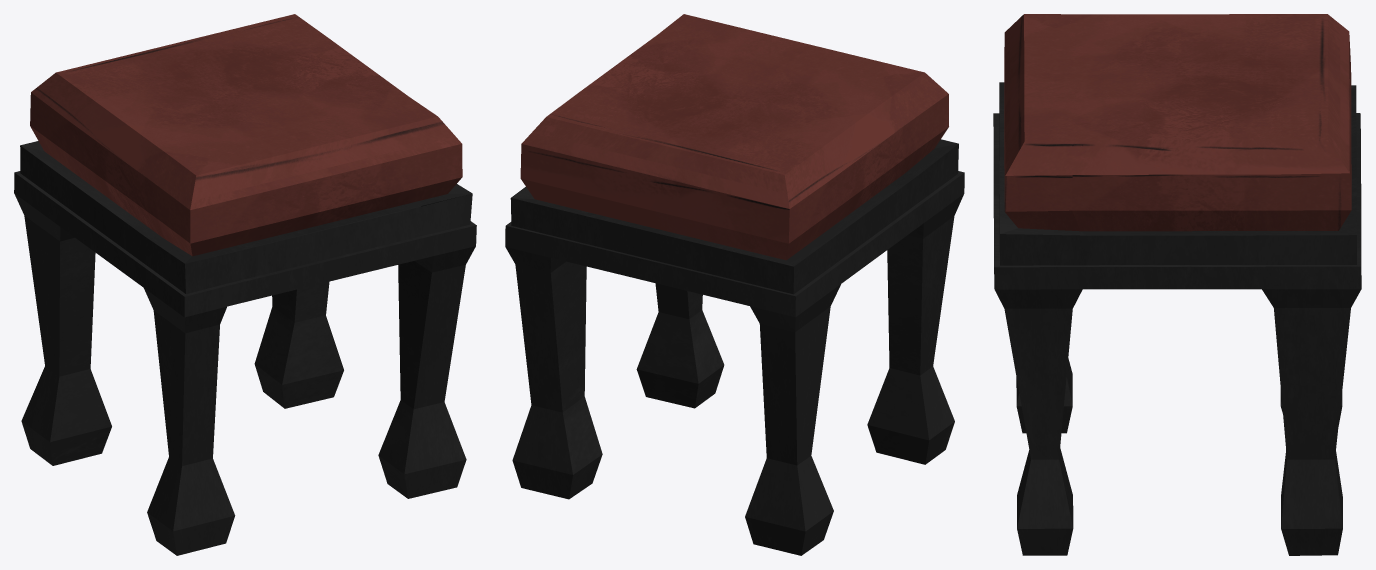
The model's file is piano1.fbx.
The picture shows the model from 3 angles, left to right: view 1: azimuth 30°, elevation 25°; view 2: azimuth 150°, elevation 25°; view 3: azimuth 270°, elevation 25°; orthographic projection. The views are drawn at different scales.
Visible parts, largest first — view 1: koltuk yan şeyi; view 2: koltuk yan şeyi; view 3: koltuk yan şeyi.
Part boxes in pixels (x1,y1,x2,y2): koltuk yan şeyi: (14,14,476,555); koltuk yan şeyi: (505,14,964,555); koltuk yan şeyi: (993,14,1361,555).
Bounding box in the file's own units: 67.73 × 82.44 × 67.94.
Materials: 2 (2 with a texture image).
